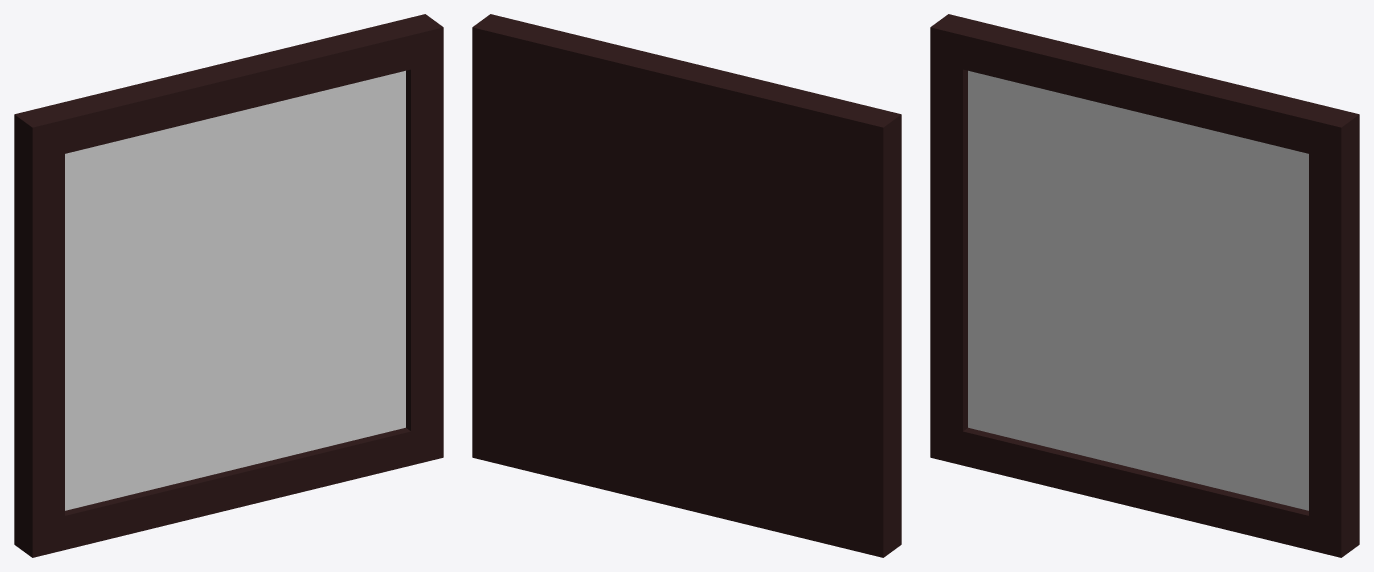
File: PaintingSquare_Large.fbx
3 renders of one model, left to right at view 1: azimuth 30°, elevation 25°; view 2: azimuth 150°, elevation 25°; view 3: azimuth 330°, elevation 25°, orthographic.
Parts seen in each view (by area): view 1: PaintingSquare_Large; view 2: PaintingSquare_Large; view 3: PaintingSquare_Large.
Boxes of the visible parts, x1,y1,x2,y2 form: PaintingSquare_Large: [14, 14, 443, 557]; PaintingSquare_Large: [472, 14, 901, 557]; PaintingSquare_Large: [930, 14, 1359, 557].
Bounding box in the file's own units: 77.04 × 77.04 × 5.92.
